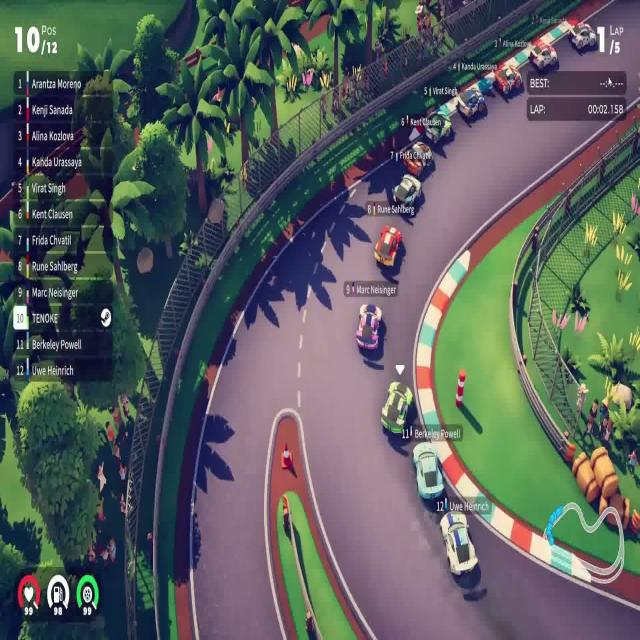car: (439, 510, 478, 578), (412, 441, 444, 504), (380, 379, 413, 438), (355, 302, 382, 352), (373, 224, 403, 268), (391, 172, 422, 210), (422, 111, 452, 146), (456, 88, 486, 120), (528, 41, 558, 73), (494, 64, 522, 96), (568, 21, 596, 51)
